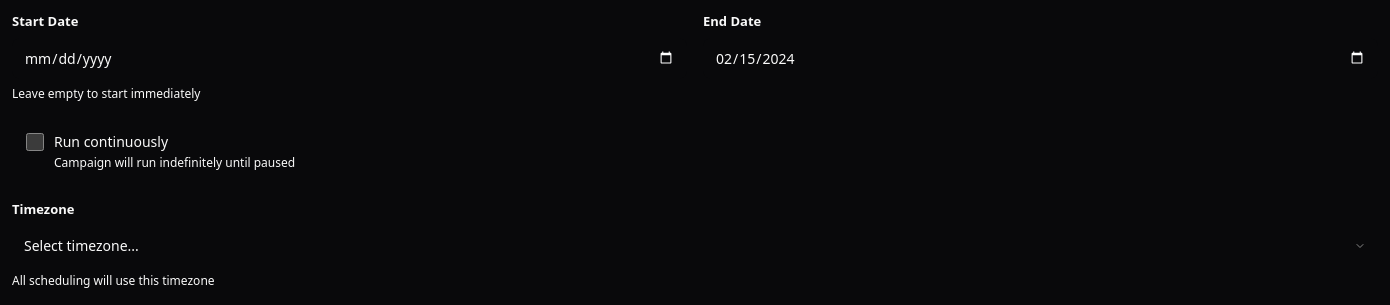
Test: DateRangePicker › Continuous Run Mode › hides end date when continuous run is enabled
The width and height of the screenshot is (1390, 305).
// Click to enable continuous mode
What coordinates should you click on to do the following:
click the checkbox labelled "Run continuously Campaign will run indefinitely until paused"
I would click on:
 (35, 142)
Its box is [26,132,44,150].
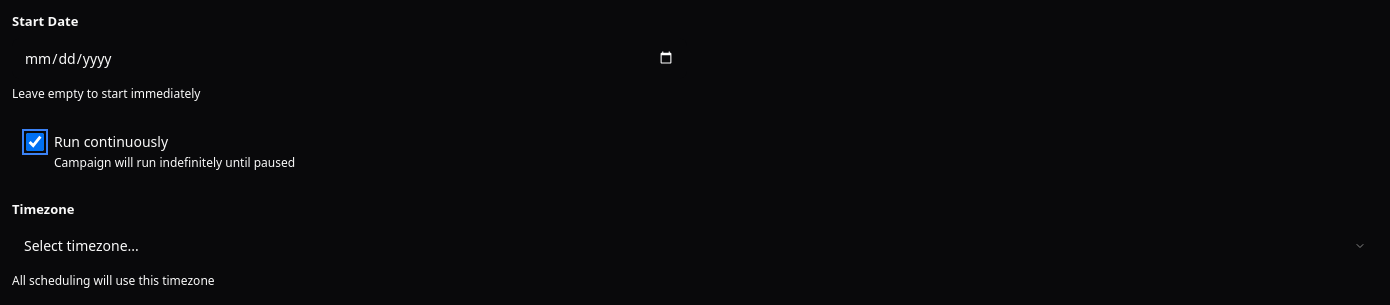
Check: the label labelled "End Date" is gone
